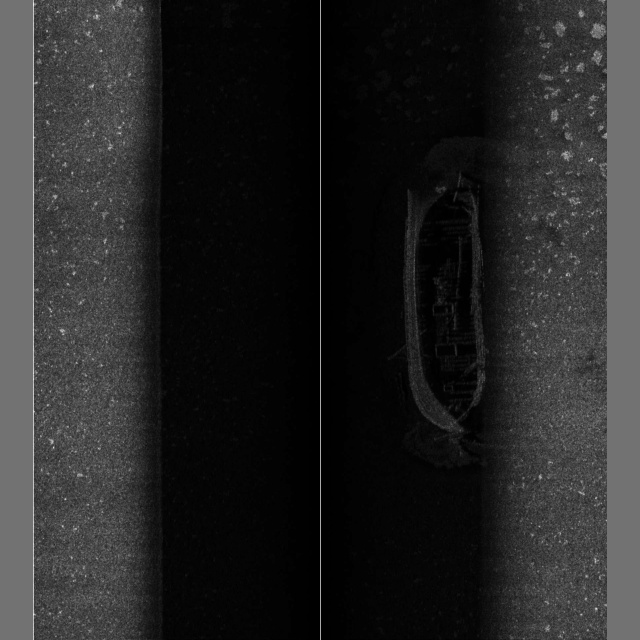Shipwreck: (388, 173, 489, 447)
